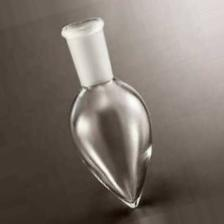Pear shaped flask: (47, 23, 161, 209)
